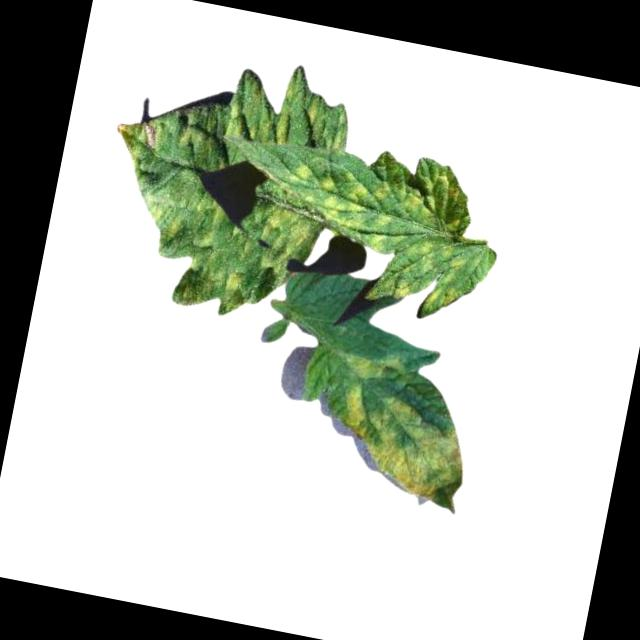Leaf_Mold: (86, 36, 358, 330), (266, 132, 512, 331), (315, 346, 484, 517)
